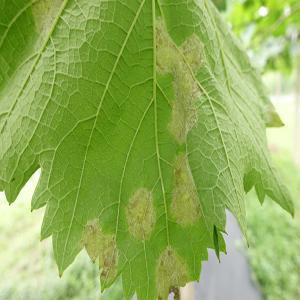Folha: (0, 0, 293, 298)
Fungo: (154, 15, 205, 144), (81, 216, 119, 292), (169, 146, 201, 228), (154, 244, 190, 300), (124, 186, 156, 242), (28, 0, 62, 43), (98, 232, 118, 292), (81, 217, 103, 263)
